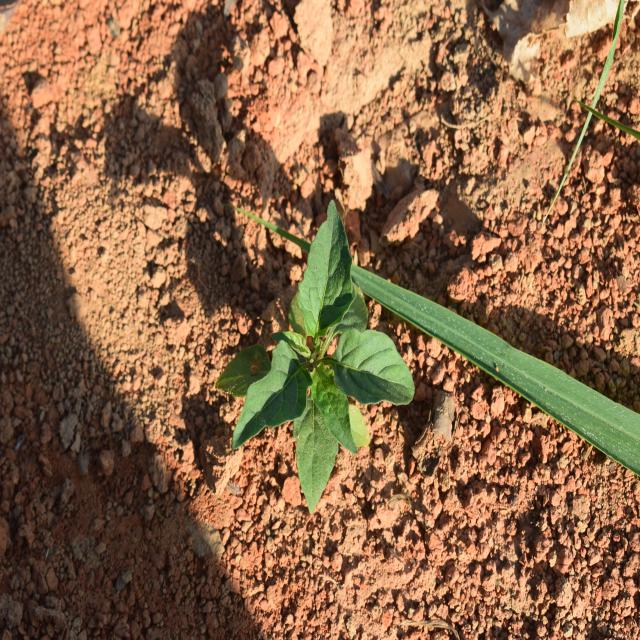Black_nightshade: (220, 209, 414, 478)
